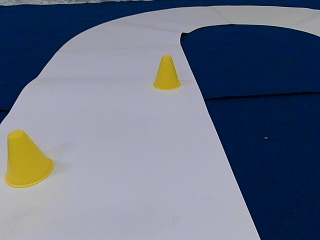cone: (5, 130, 54, 187), (152, 56, 180, 89)
